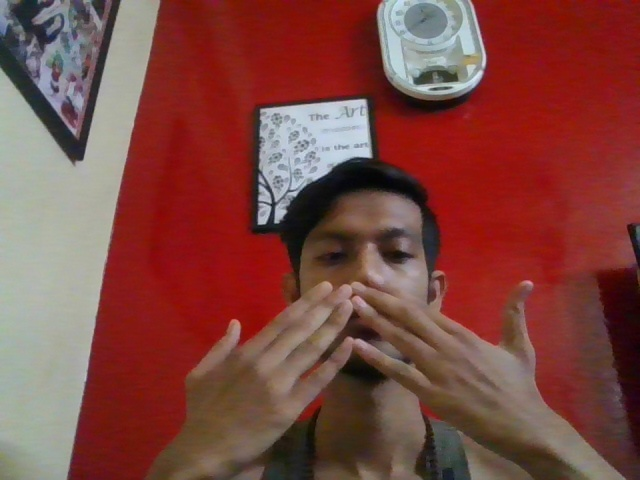ThankYou: (193, 278, 539, 459)
